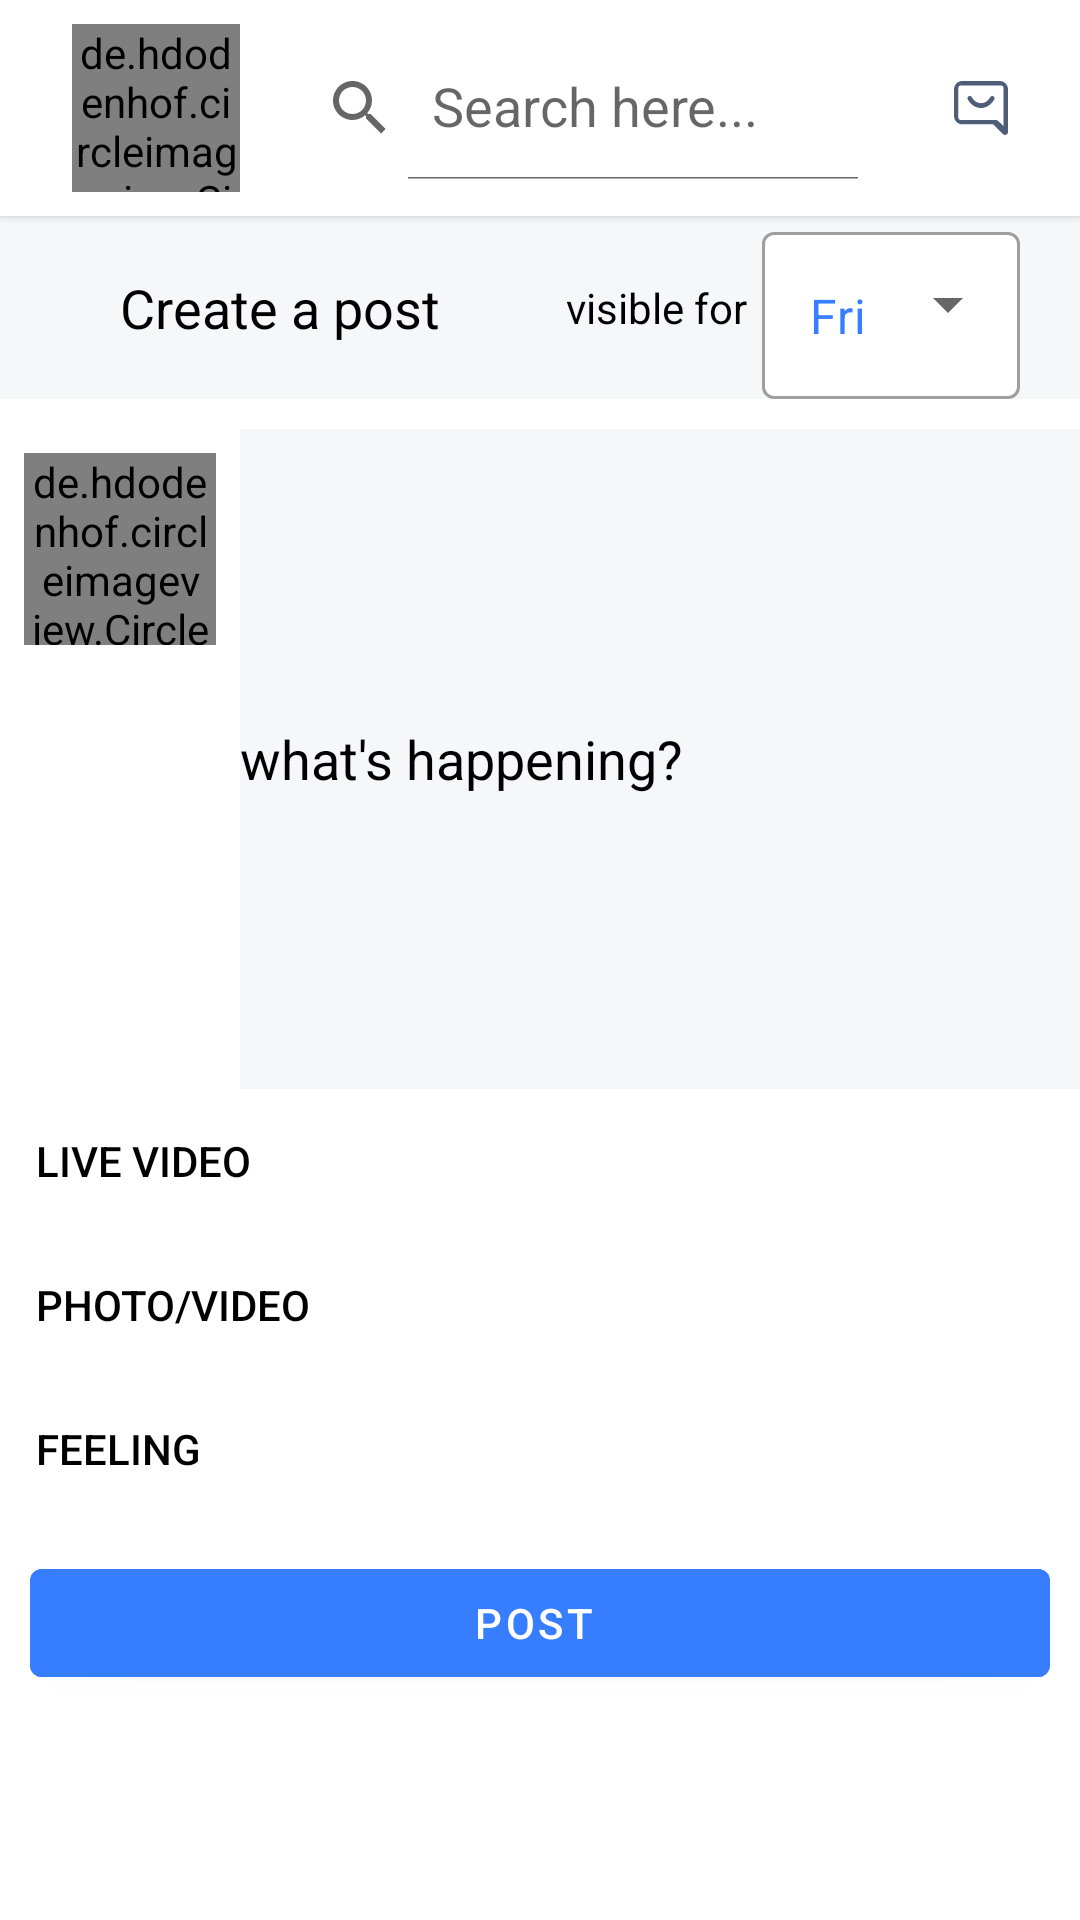

Icon bounding boxes for this 1080×1920 phone screenshot, format {"x1": x1, "y1": y1, "x2": x2, "y2": y2}:
message: {"x1": 954, "y1": 81, "x2": 1008, "y2": 135}
